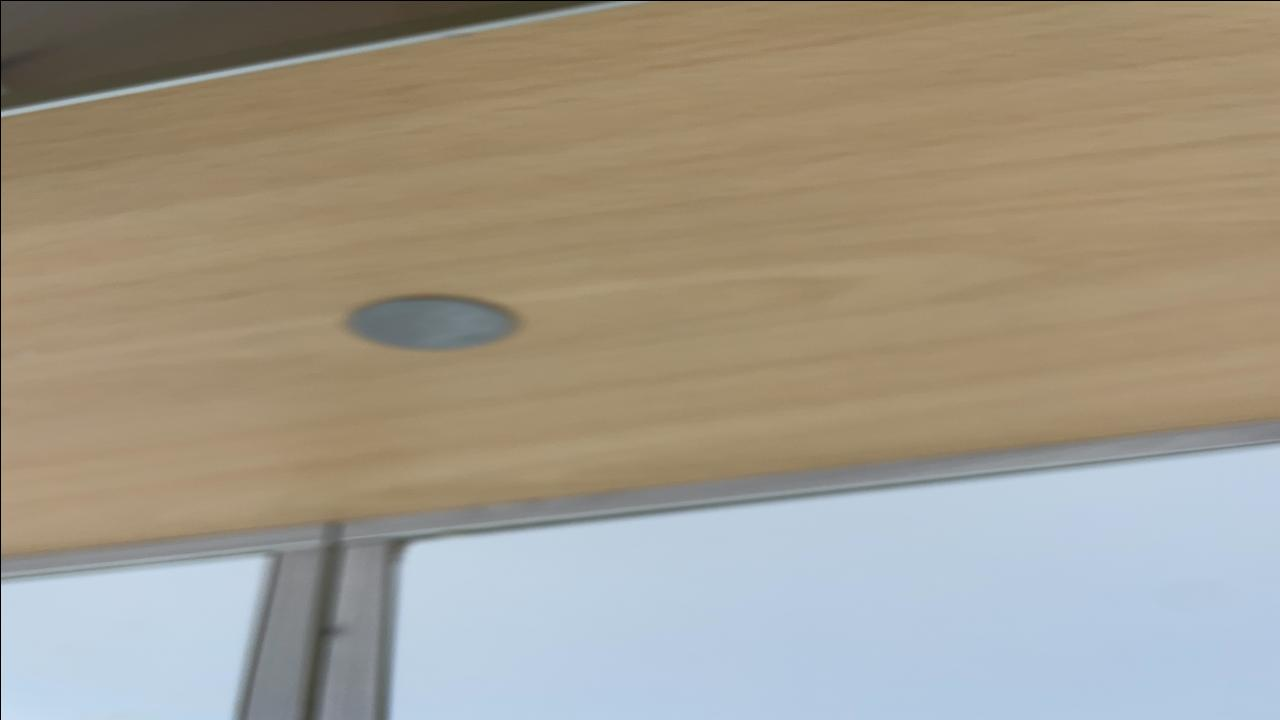coin: (344, 294, 524, 353)
